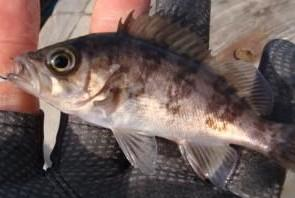fish: (5, 13, 294, 183)
